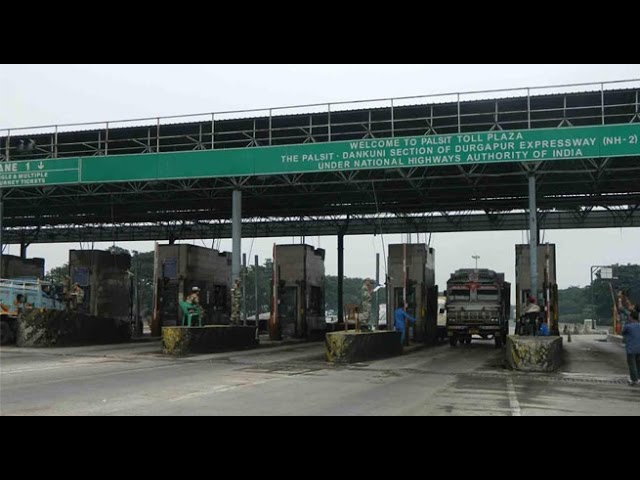toll plaza: (4, 108, 636, 214)
